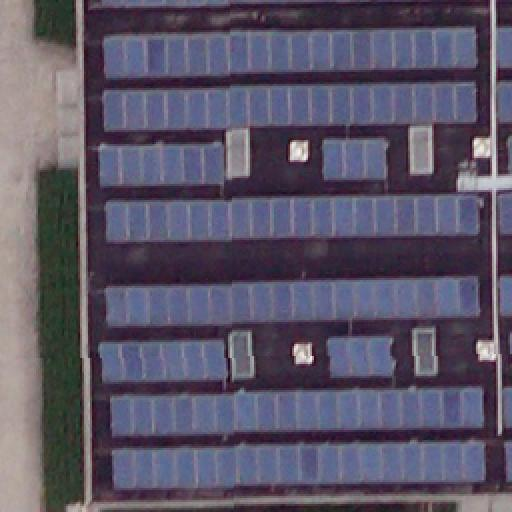solar-panel: (110, 438, 486, 490), (105, 276, 479, 328), (105, 26, 479, 78), (108, 387, 484, 437), (104, 83, 480, 133), (106, 196, 482, 244), (107, 340, 229, 384), (101, 143, 227, 185), (327, 335, 393, 377), (100, 1, 432, 7), (492, 27, 512, 69), (496, 80, 512, 124), (496, 195, 512, 237), (497, 274, 511, 318), (500, 386, 512, 430), (504, 442, 512, 482), (505, 134, 511, 174), (508, 331, 512, 357)
